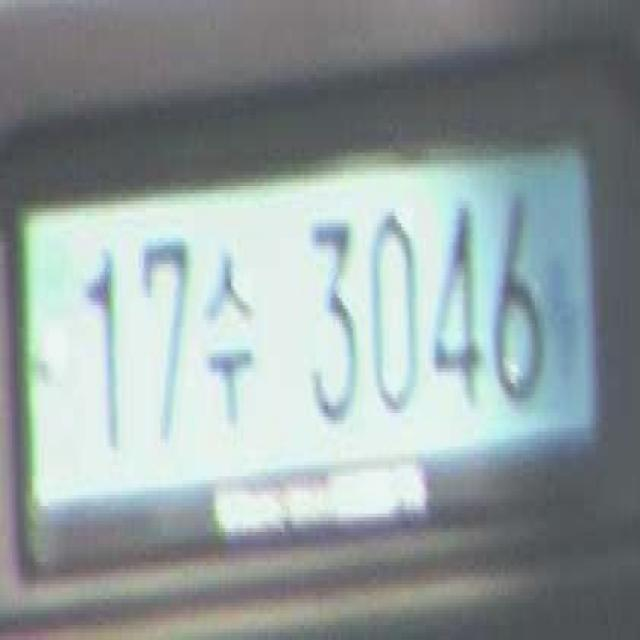EV_plate: (14, 152, 615, 566)
